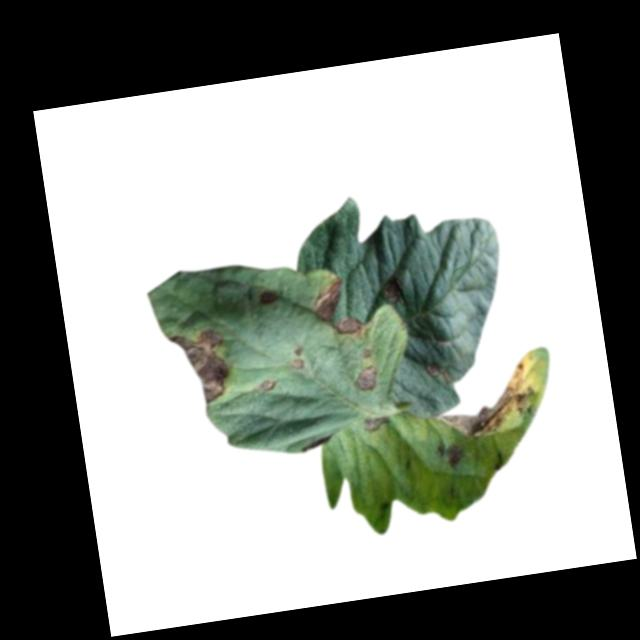Early_blight: (433, 360, 538, 442), (166, 328, 232, 407), (305, 274, 367, 347), (436, 440, 467, 472), (377, 276, 405, 306), (353, 364, 380, 394), (423, 360, 452, 386), (362, 412, 390, 432), (257, 288, 280, 311), (288, 347, 306, 373), (259, 376, 281, 394), (359, 348, 373, 361)
